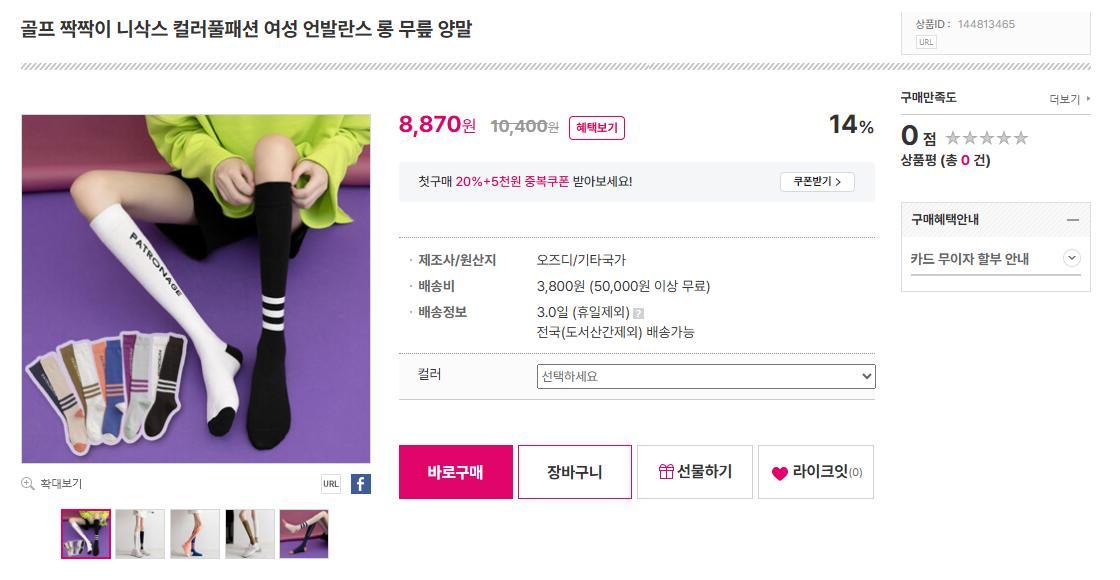button: (760, 443, 874, 498), (399, 445, 513, 499), (638, 446, 753, 498), (521, 445, 632, 498), (116, 508, 166, 558), (62, 509, 112, 559), (227, 507, 274, 558), (171, 510, 219, 559), (280, 510, 328, 558), (14, 470, 93, 497), (568, 115, 625, 141), (781, 171, 855, 191), (1047, 91, 1097, 109), (1062, 246, 1082, 268), (352, 474, 371, 494), (321, 475, 339, 492)
checkbox: (538, 363, 877, 391)
